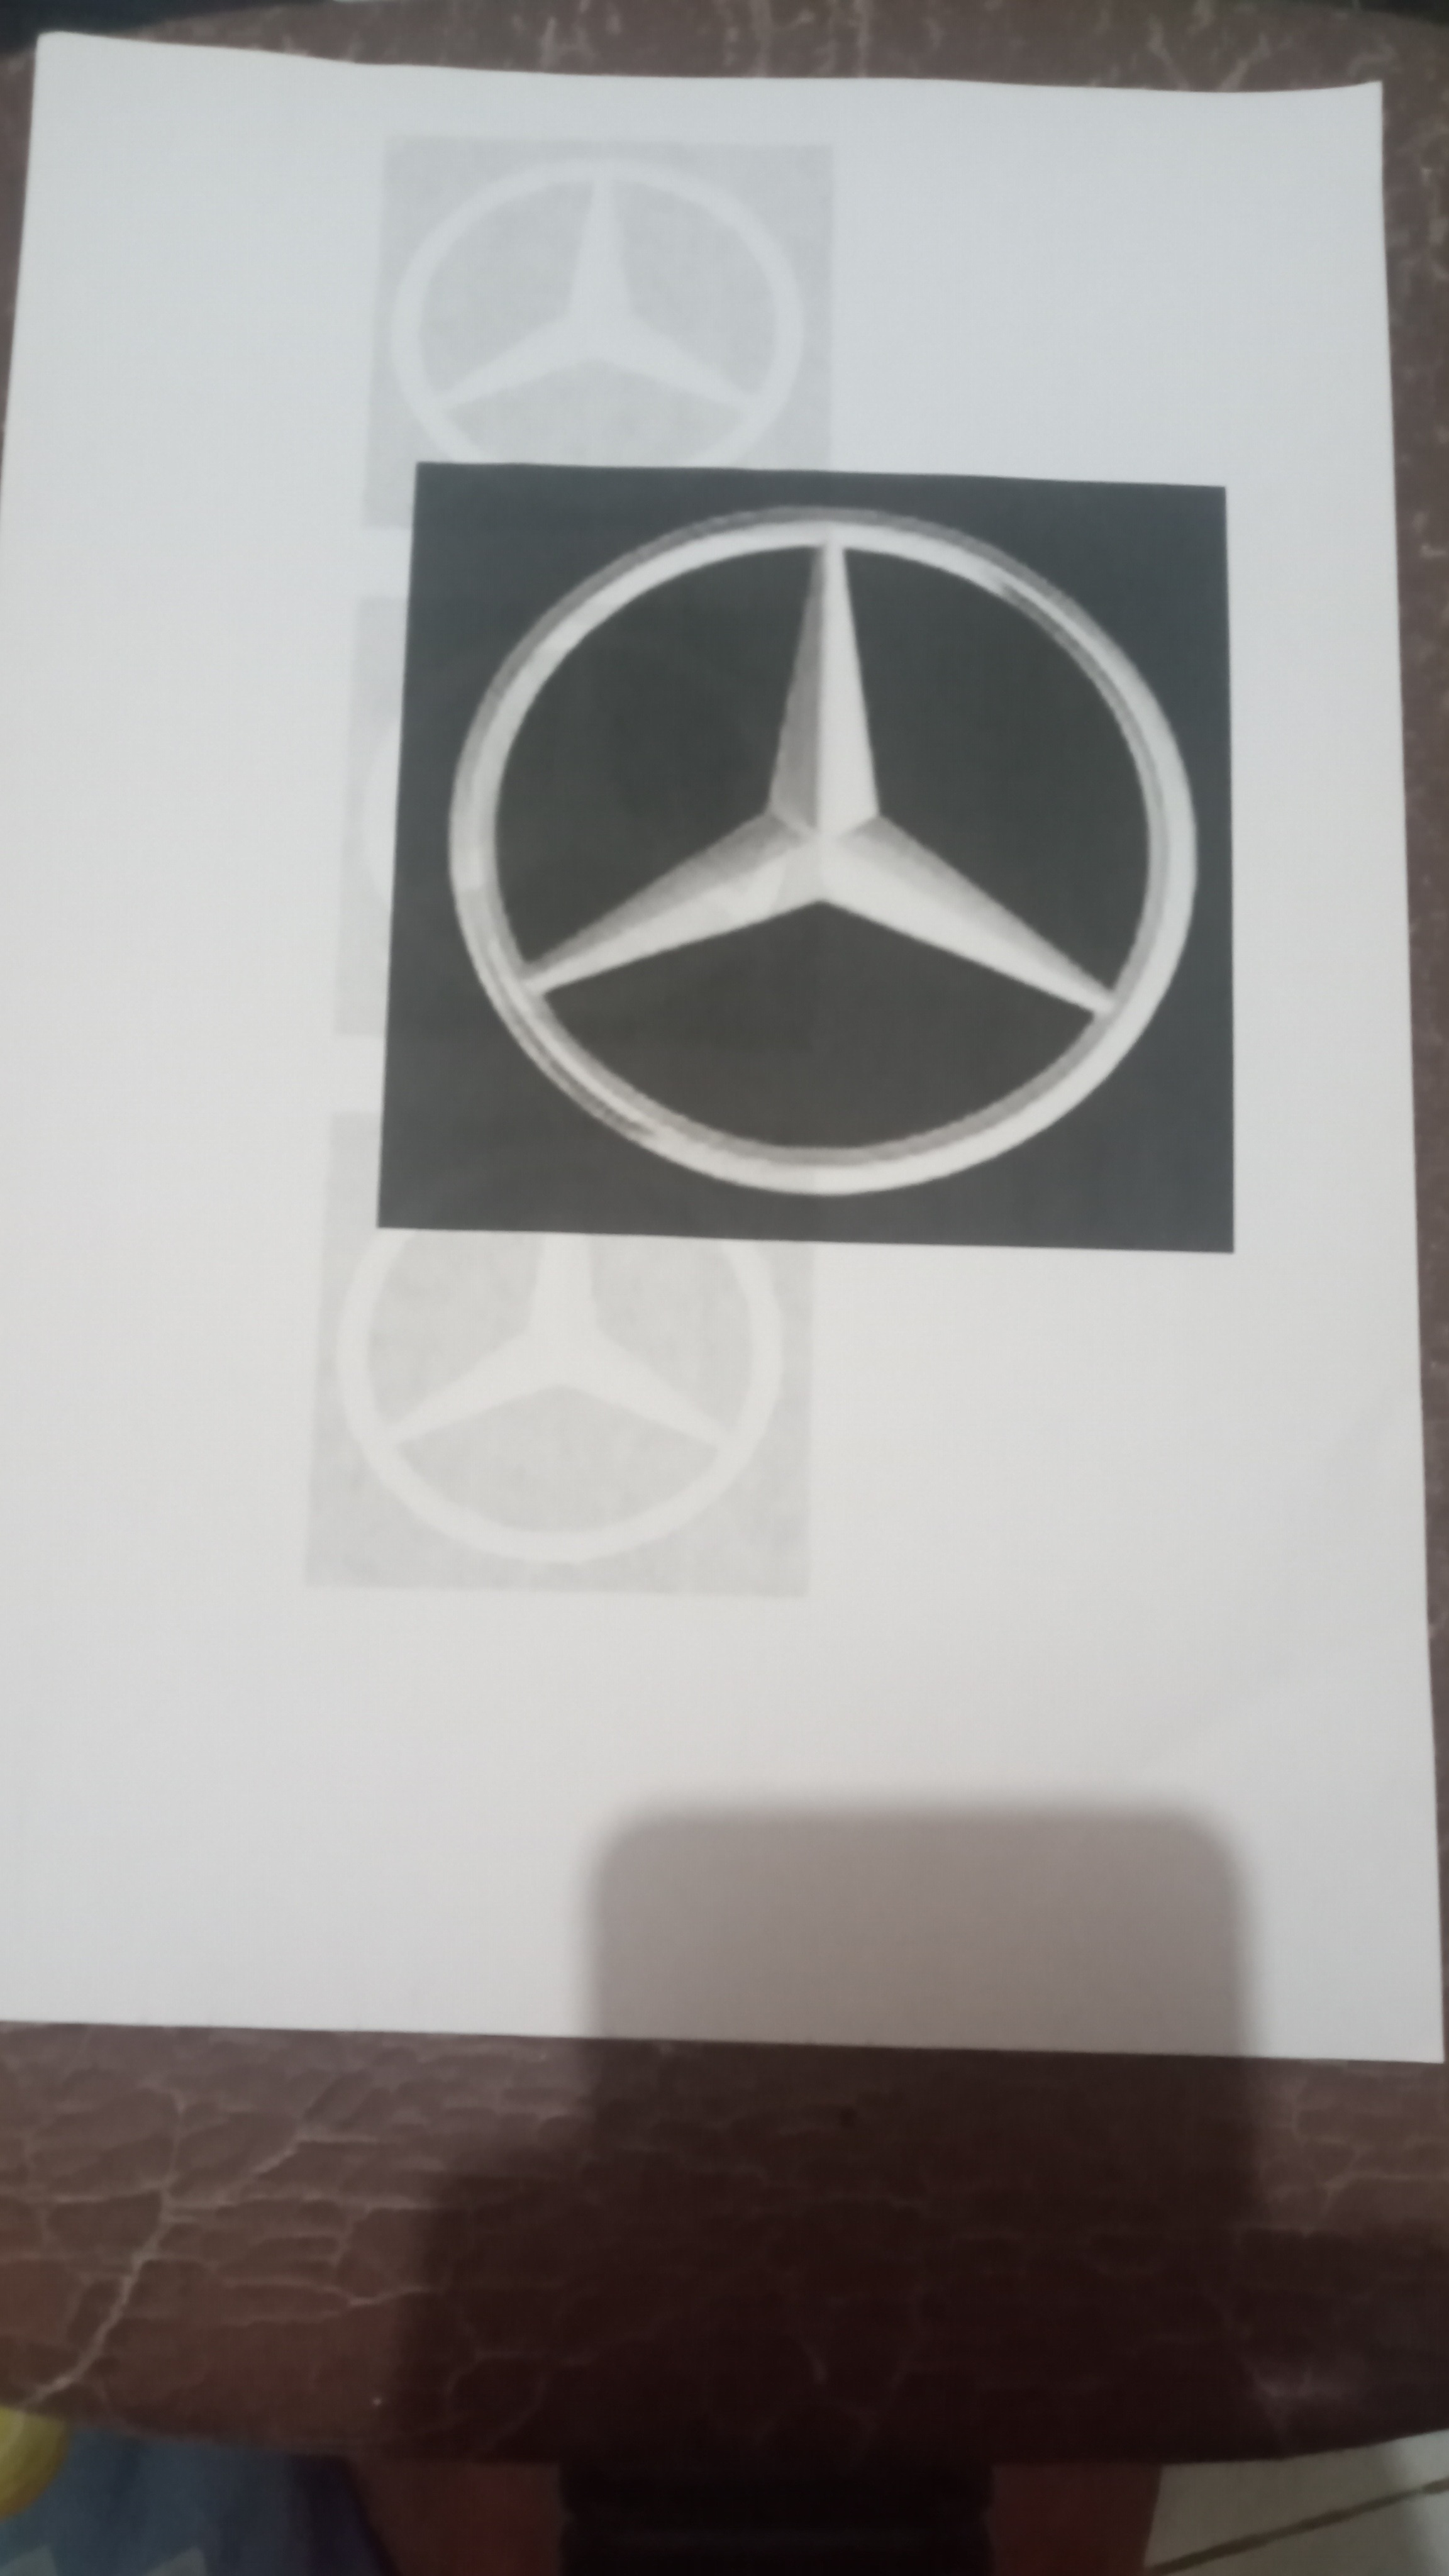Mercedes: (428, 471, 1219, 1247)
